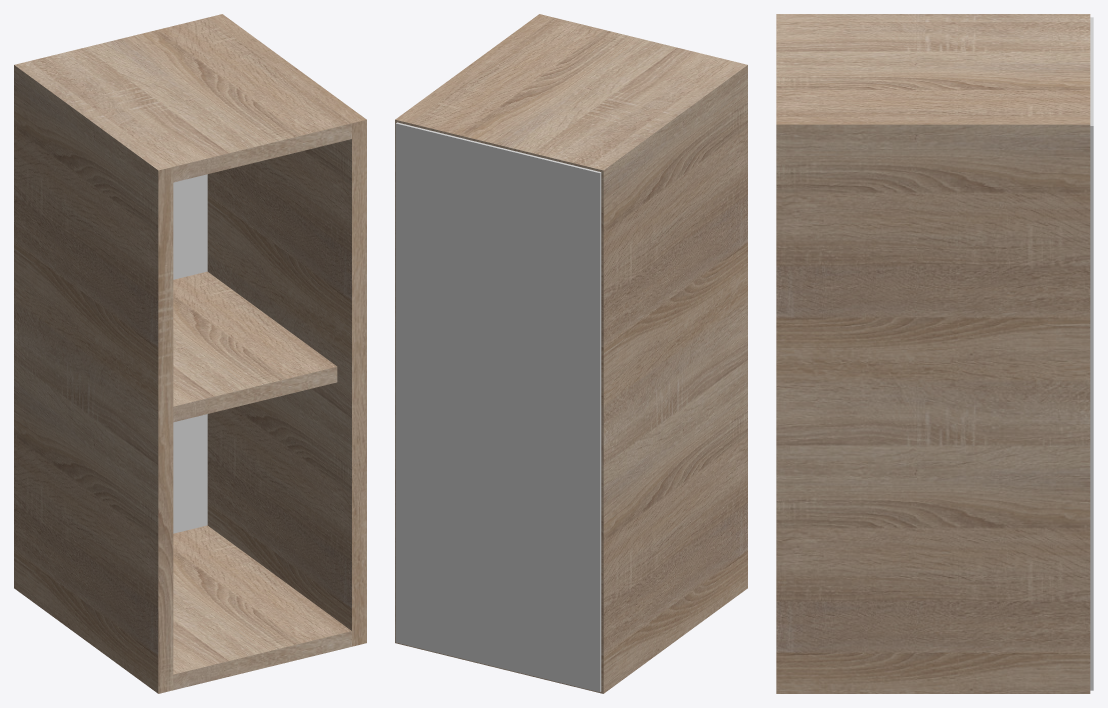
The model's file is s_fny_25.glb.
The picture shows the model from 3 angles, left to right: view 1: azimuth 30°, elevation 25°; view 2: azimuth 150°, elevation 25°; view 3: azimuth 270°, elevation 25°; orthographic projection. The views are drawn at different scales.
Visible parts, largest first — view 1: s_fny_25_korpusz; view 2: s_fny_25_korpusz; view 3: s_fny_25_korpusz.
Boxes of the visible parts, box(x1,y1,x2,y2) form: s_fny_25_korpusz: box(14, 14, 366, 693); s_fny_25_korpusz: box(395, 14, 747, 693); s_fny_25_korpusz: box(776, 14, 1093, 693).
Size of the model in its own units: 0.25 by 0.6 by 0.303.
2 materials, 1 textured.
